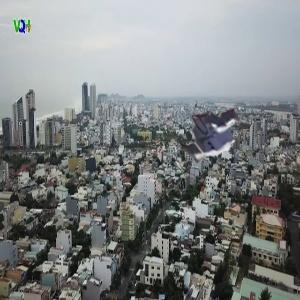drone: (166, 93, 260, 187)
